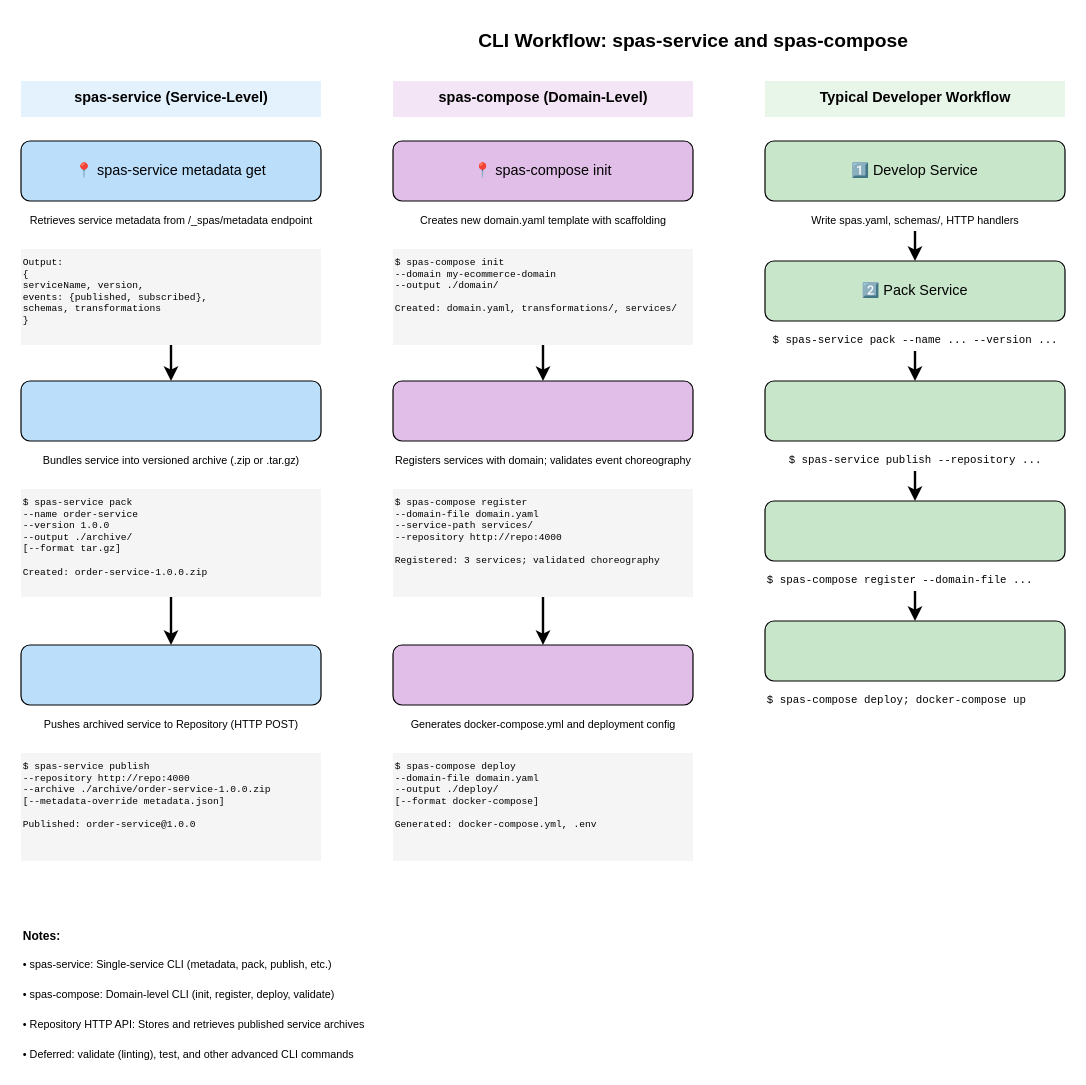
The diagram is 1086 pixels wide and 1085 high, and some of its shapes have lost their labels. The centre of each missing label's shape, as x and y in pixels:
"3️⃣ Publish to Repository" belongs at [914,410].
"4️⃣ Register in Domain" belongs at [914,530].
"5️⃣ Deploy Domain" belongs at [914,650].
"📍 spas-compose deploy" belongs at [542,674].
"📍 spas-compose register" belongs at [542,410].
"📍 spas-service pack" belongs at [170,410].
"📍 spas-service publish" belongs at [170,674].
